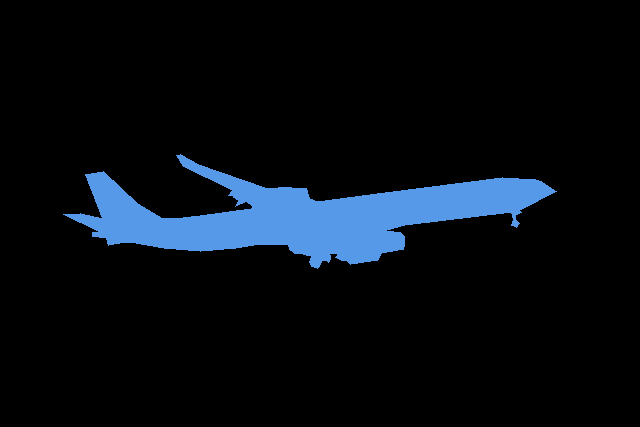Airplane: (63, 154, 557, 268)
